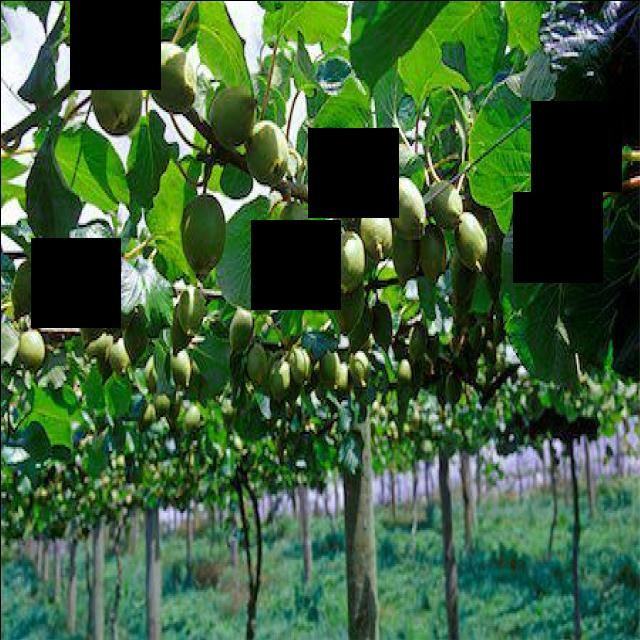kiwi: (91, 46, 145, 140), (241, 115, 294, 189), (143, 40, 197, 112), (209, 83, 260, 153), (329, 226, 371, 298), (292, 236, 330, 313), (382, 178, 432, 236), (454, 210, 495, 276), (276, 200, 313, 272), (316, 161, 364, 215), (427, 176, 465, 242), (325, 276, 365, 338), (10, 253, 44, 325), (358, 200, 395, 266), (175, 283, 211, 339), (77, 287, 109, 349), (418, 223, 448, 283), (15, 325, 51, 372), (125, 312, 155, 366), (283, 340, 315, 389), (369, 298, 395, 358), (224, 304, 254, 355), (267, 355, 294, 409), (102, 287, 126, 347), (348, 302, 372, 360), (392, 231, 416, 287), (243, 338, 269, 389), (316, 345, 344, 390), (170, 345, 196, 392), (349, 347, 375, 394), (442, 366, 465, 415), (138, 349, 161, 394), (107, 336, 134, 374), (405, 319, 429, 361), (169, 313, 191, 353), (150, 392, 173, 424), (184, 400, 206, 432), (138, 398, 155, 432)
